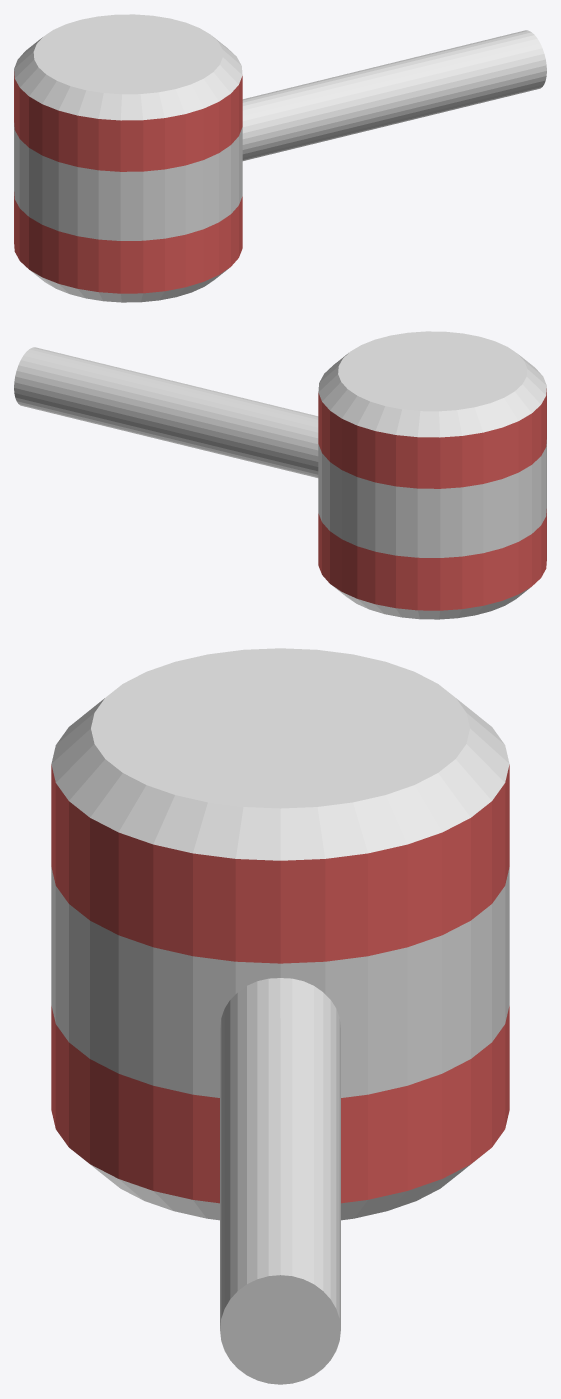
File: hummer.fbx
The picture shows the model from 3 angles, top to bottom: view 1: azimuth 30°, elevation 25°; view 2: azimuth 150°, elevation 25°; view 3: azimuth 270°, elevation 25°; orthographic projection. The views are drawn at different scales.
Visible parts, largest first — view 1: Cylinder, Cylinder.001; view 2: Cylinder, Cylinder.001; view 3: Cylinder, Cylinder.001.
Boxes of the visible parts, x1=… form: Cylinder: x1=14, y1=14, x2=242, y2=302; Cylinder.001: x1=242, y1=30, x2=546, y2=160; Cylinder: x1=318, y1=331, x2=546, y2=619; Cylinder.001: x1=14, y1=347, x2=318, y2=477; Cylinder: x1=51, y1=648, x2=509, y2=1220; Cylinder.001: x1=220, y1=978, x2=340, y2=1384.
Size of the model in its own units: 174 by 68.69 by 68.69.
